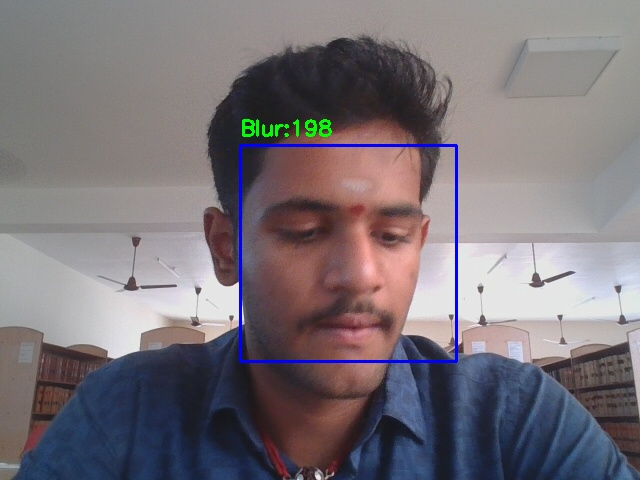real: (240, 145, 456, 361)
